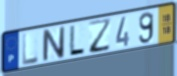4: (115, 15, 131, 47)
9: (137, 11, 155, 45)
L: (21, 31, 40, 67), (68, 24, 86, 56)
N: (41, 25, 66, 63)
Z: (88, 16, 113, 55)
